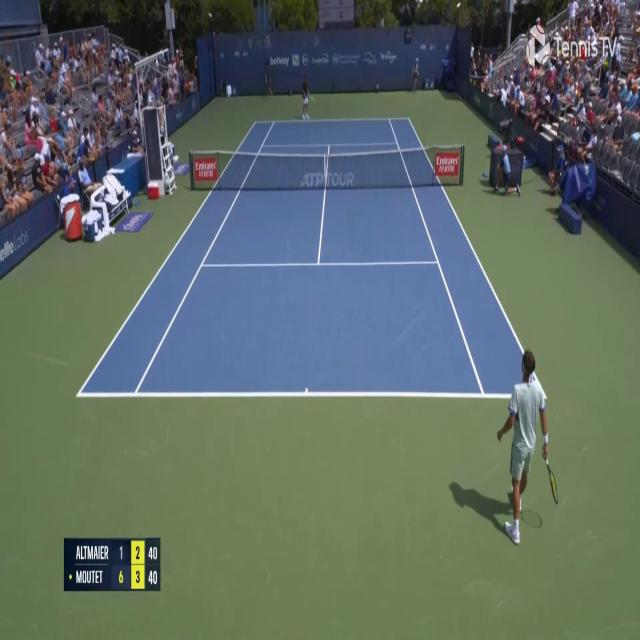tennis-player: (496, 345, 557, 546), (300, 70, 312, 122)
